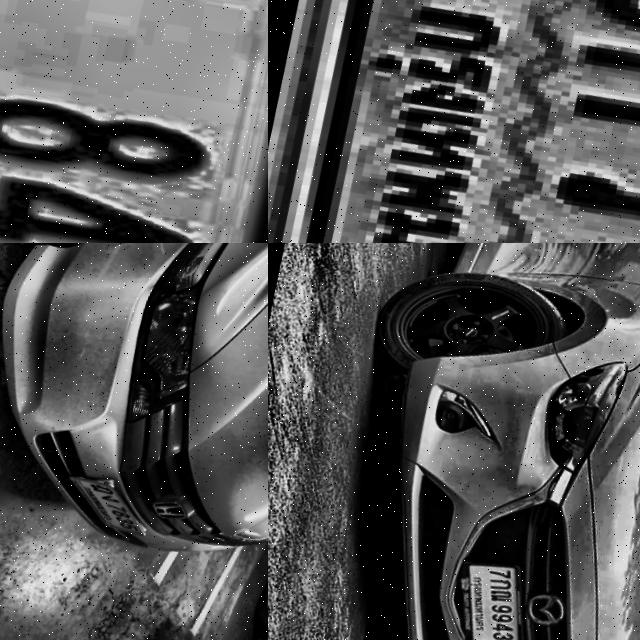license-plate: (268, 0, 640, 243), (0, 0, 268, 243), (431, 550, 538, 640), (49, 469, 157, 552)
